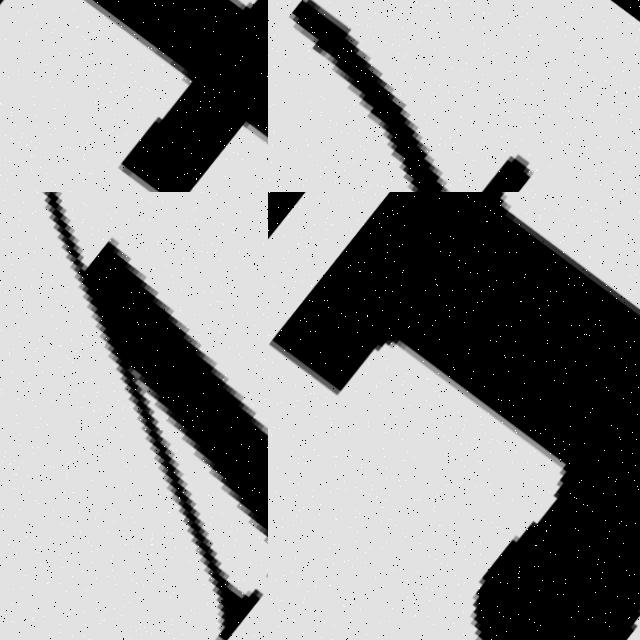F: (291, 0, 438, 192)
R: (268, 192, 640, 640)
T: (0, 0, 268, 192)
Y: (0, 192, 268, 640)
